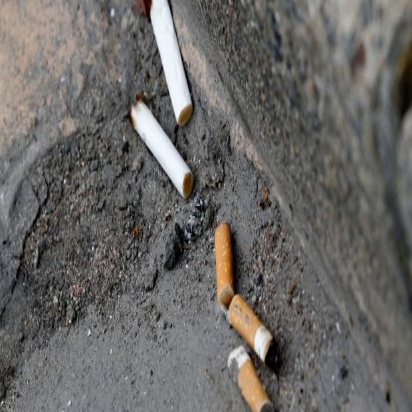cigarette: (123, 97, 197, 204), (140, 1, 197, 129), (221, 292, 277, 370), (220, 344, 280, 412), (210, 220, 240, 313)
